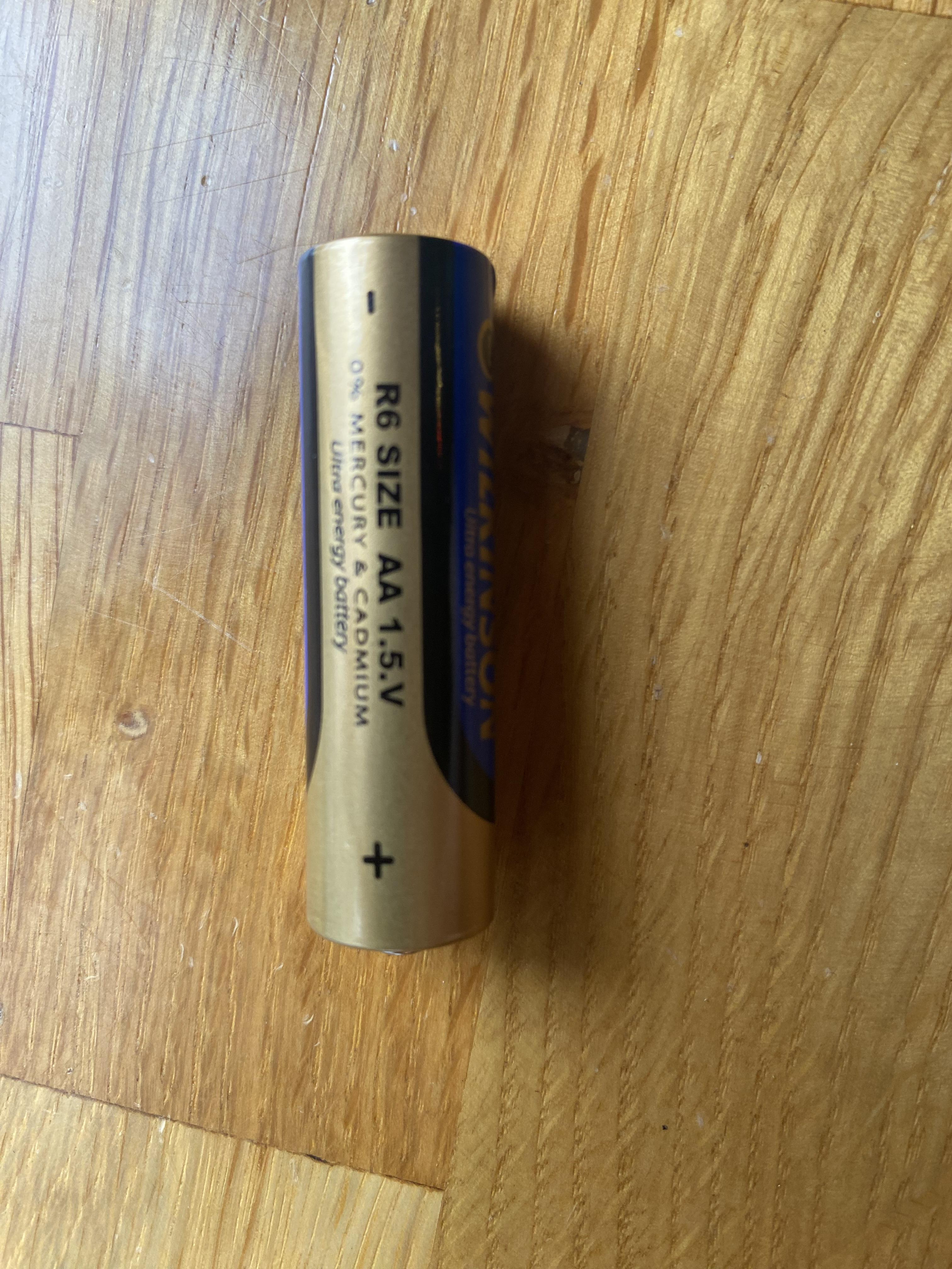AA: (297, 232, 499, 953)
